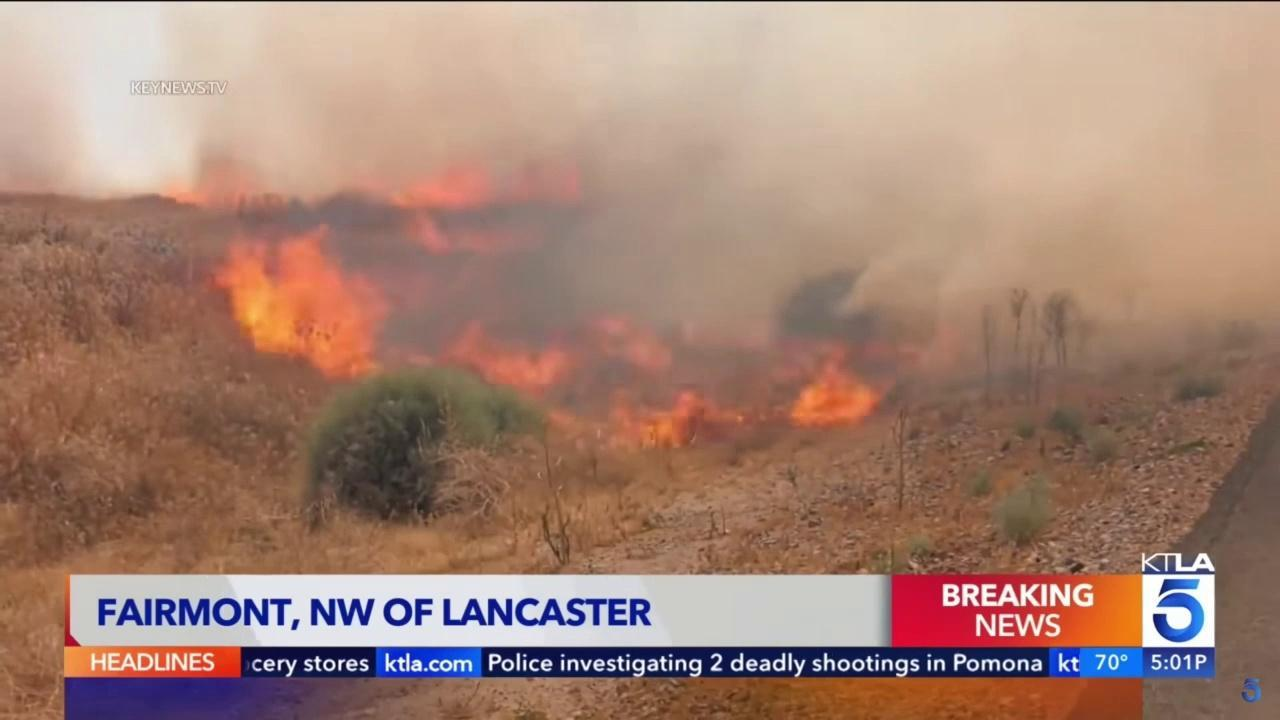fire: (433, 306, 965, 453), (191, 219, 401, 375), (358, 144, 588, 254), (149, 158, 286, 211)
smoke: (116, 0, 1280, 458), (0, 0, 105, 207)
